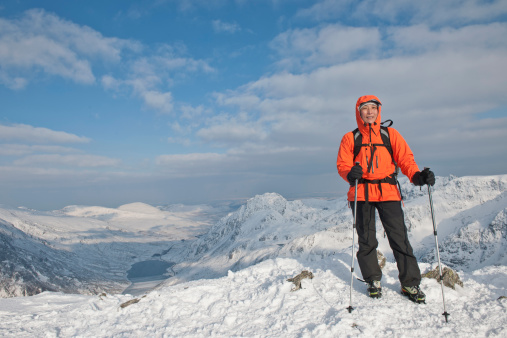em pe: (333, 84, 427, 307)
